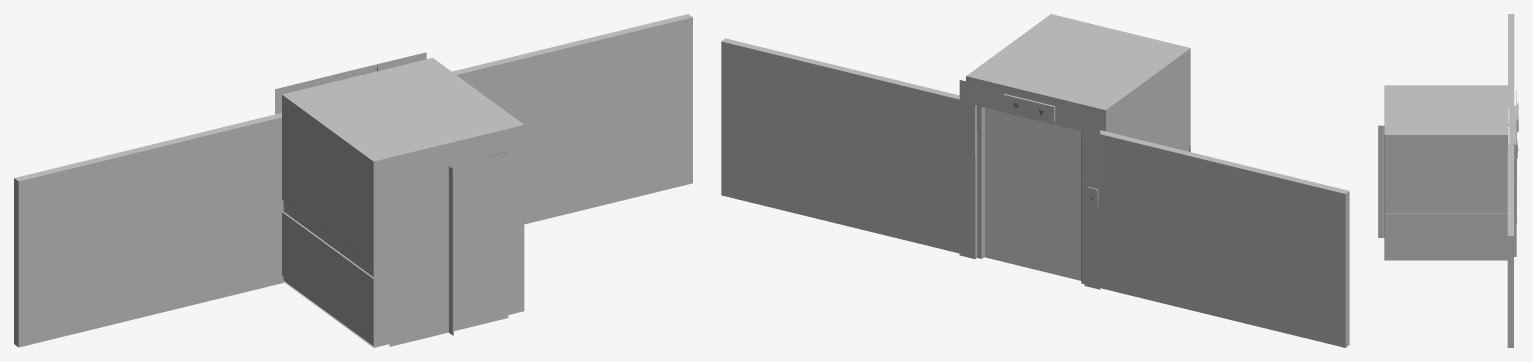
File: elevatortoMorgue.fbx
The picture shows the model from 3 angles, left to right: view 1: azimuth 30°, elevation 25°; view 2: azimuth 150°, elevation 25°; view 3: azimuth 270°, elevation 25°; orthographic projection. The views are drawn at different scales.
Visible parts, largest first — view 1: elevator; view 2: elevator, doorL, doorR; view 3: elevator.
Part boxes in pixels (<box>): elevator: <box>14,14,692,347</box>; elevator: <box>721,14,1349,347</box>; doorL: <box>985,107,1034,269</box>; doorR: <box>1034,120,1081,280</box>; elevator: <box>1378,14,1518,347</box>.
Bounding box in the file's own units: 1618 × 437 × 433.
